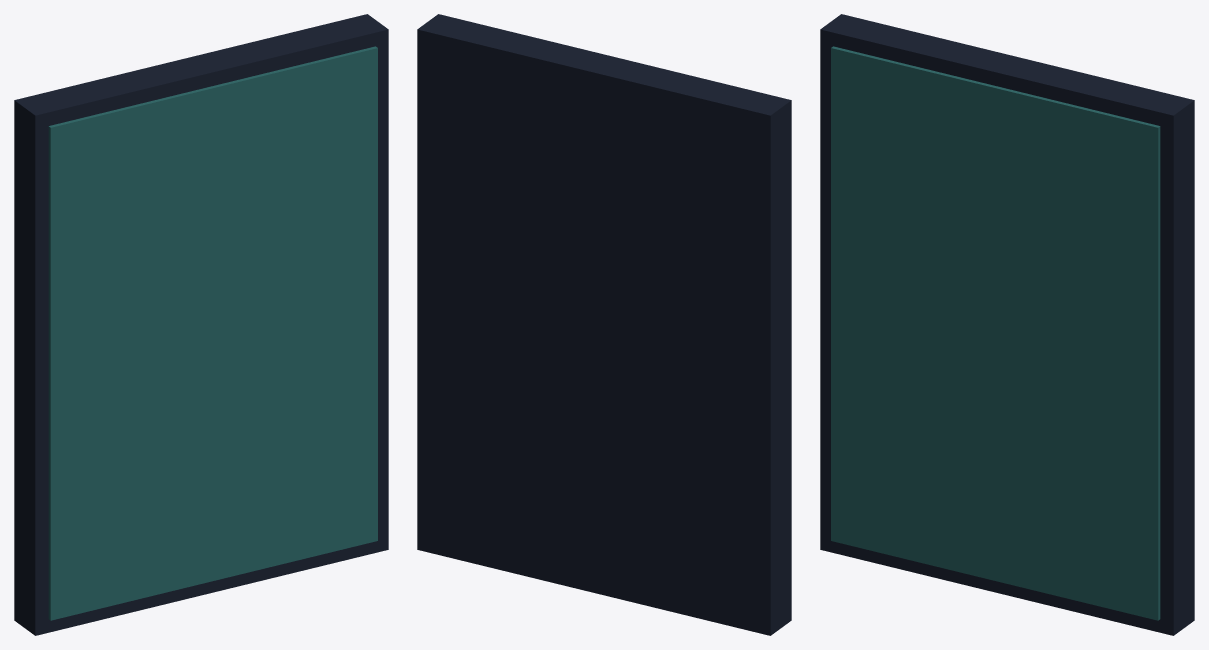
The model's file is dvd-5.glb.
The picture shows the model from 3 angles, left to right: view 1: azimuth 30°, elevation 25°; view 2: azimuth 150°, elevation 25°; view 3: azimuth 330°, elevation 25°; orthographic projection.
Bounding box in the file's own units: 0.135 × 0.19 × 0.0155.
